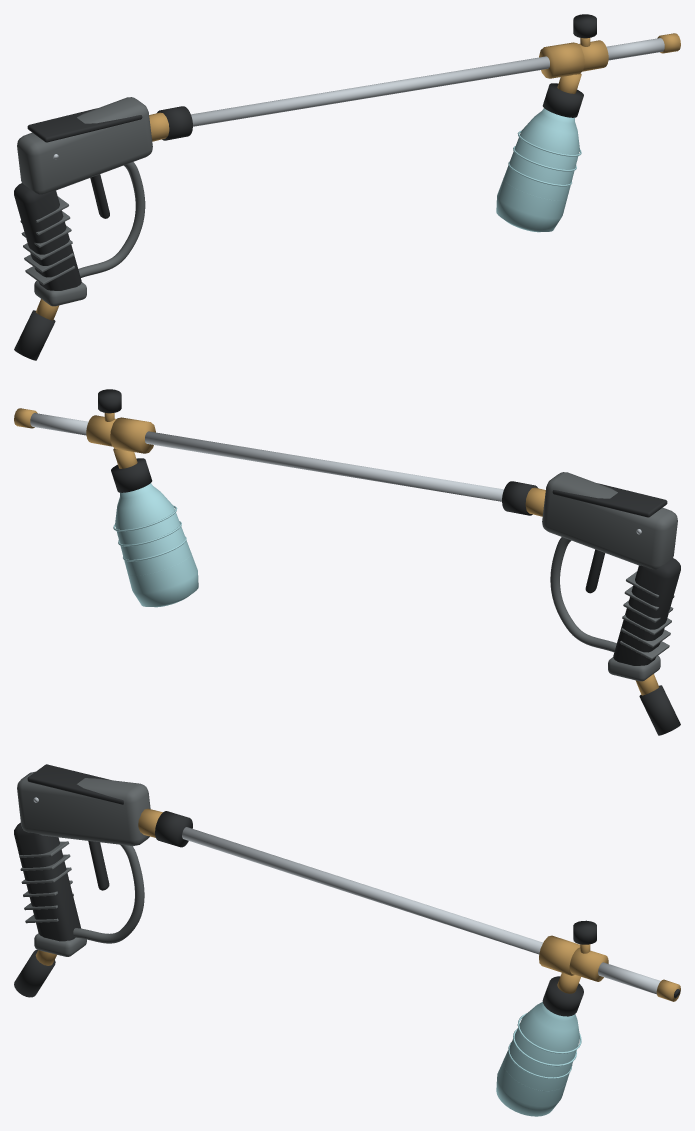
Rendered from crimson_pressure_washer.glb.
3 renders of one model, top to bottom at view 1: azimuth 30°, elevation 25°; view 2: azimuth 150°, elevation 25°; view 3: azimuth 330°, elevation 25°, orthographic.
Parts seen in each view (by area): view 1: crimson_pressure_washer; view 2: crimson_pressure_washer; view 3: crimson_pressure_washer.
Boxes of the visible parts, x1=… form: crimson_pressure_washer: x1=14, y1=14, x2=680, y2=360; crimson_pressure_washer: x1=14, y1=389, x2=680, y2=735; crimson_pressure_washer: x1=14, y1=764, x2=680, y2=1116.
Bounding box in the file's own units: 1.09 × 0.3665 × 0.098.
